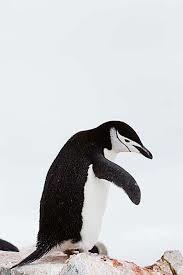chinstrap: (20, 95, 158, 266)
